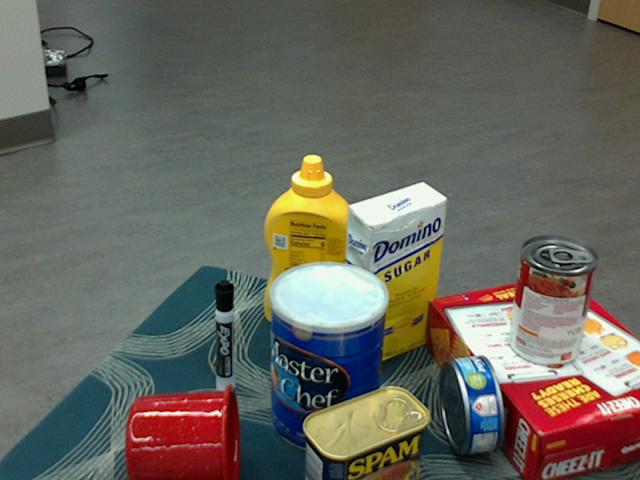cracker_box: (424, 276, 639, 479)
large_marker: (213, 279, 233, 392)
master_chef_can: (269, 262, 390, 455)
mug: (124, 384, 239, 479)
mustard_bottle: (263, 155, 357, 334)
potted_meat_can: (303, 386, 430, 479)
sugar_box: (339, 184, 447, 370)
tomato_soup_can: (507, 237, 597, 368)
tuna_fish_can: (440, 354, 505, 454)
